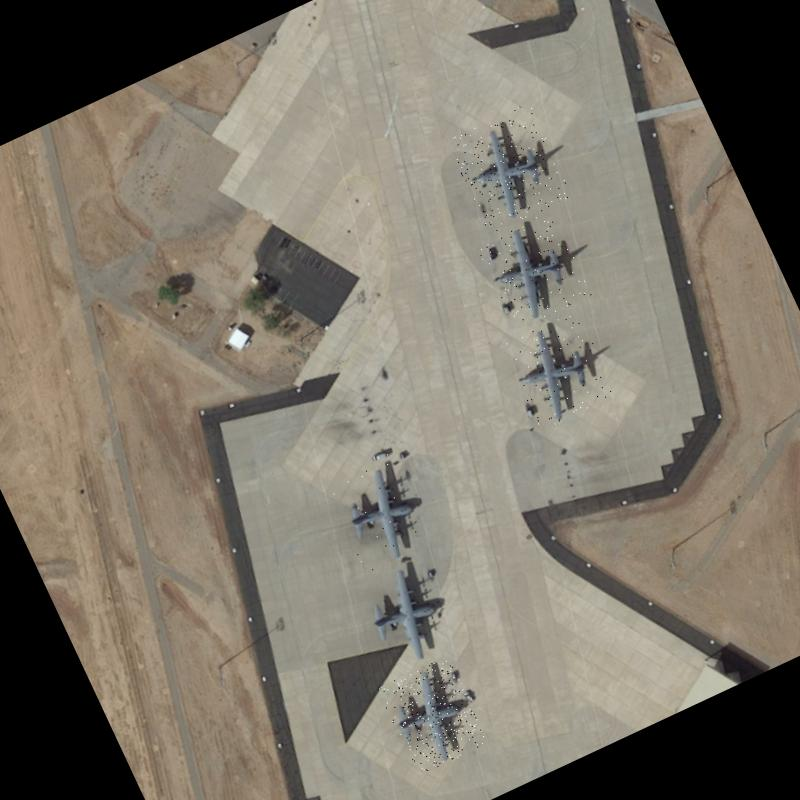A2: (446, 101, 572, 234), (500, 310, 618, 432), (344, 552, 462, 674), (322, 450, 438, 574), (476, 209, 592, 330), (376, 655, 488, 776)
